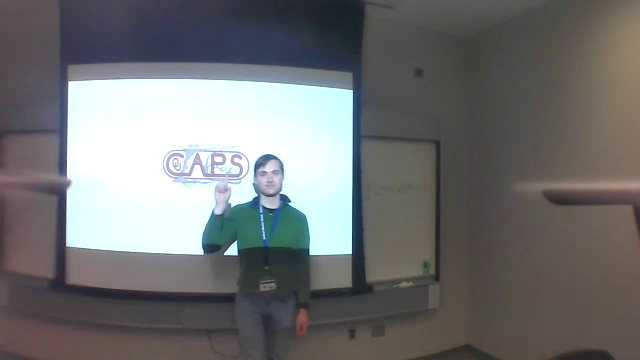up: (208, 166, 235, 205)
